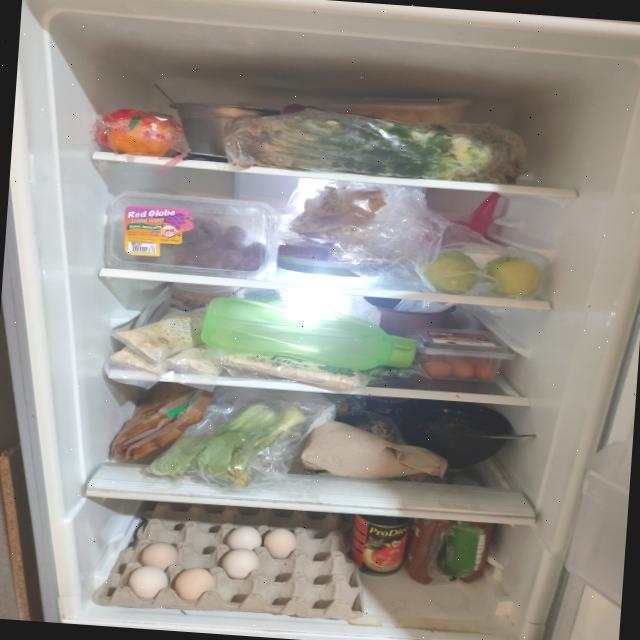apple: (420, 248, 479, 296), (482, 255, 541, 298)
egg: (97, 498, 370, 624)
grape: (105, 190, 282, 280)
leafy_greens: (228, 104, 530, 185)
orange: (105, 111, 176, 158)
pakchoy: (151, 394, 307, 492)
tempeh: (107, 298, 228, 380), (221, 351, 370, 392)
